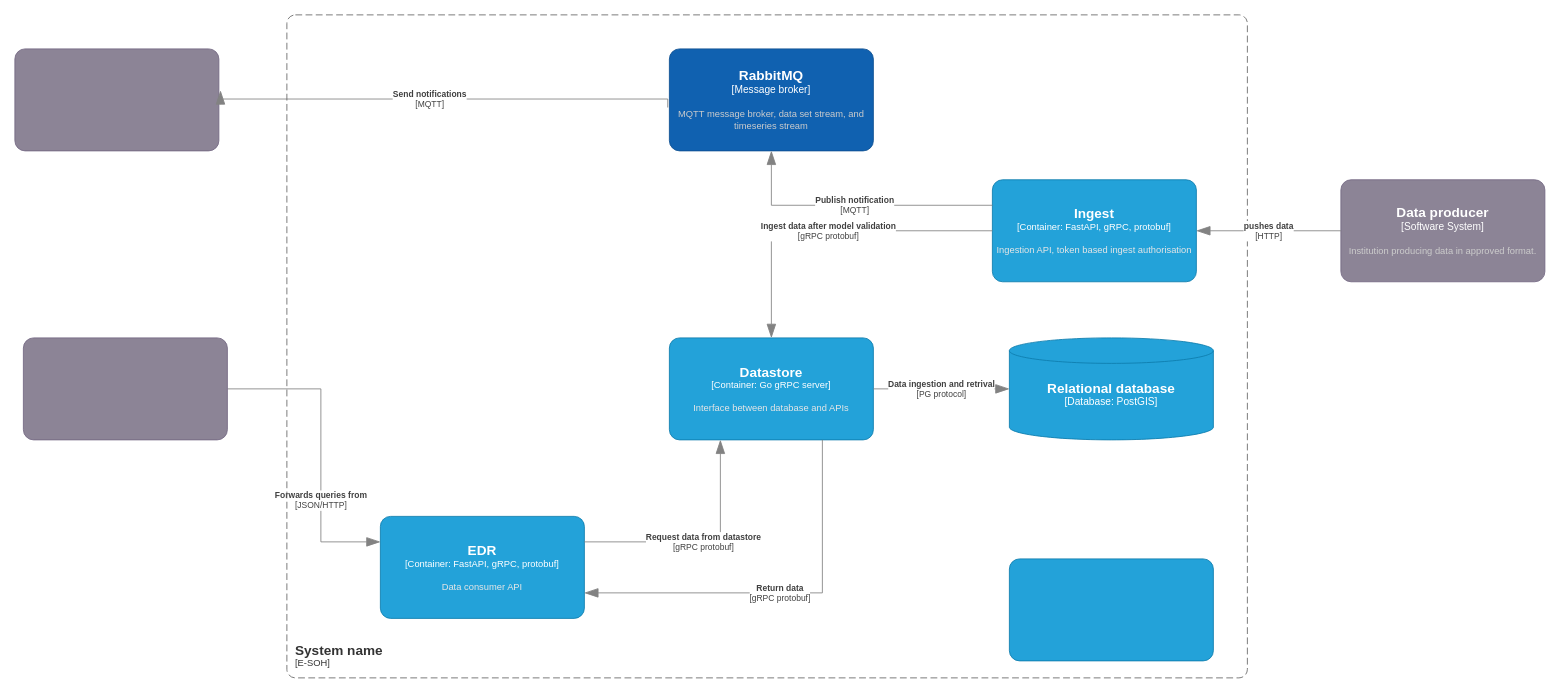
Some shapes in this 1560 by 693 pixel diagram are drawn without their labels. The box of each missing label's shape, as (x1, y1, x2, y2) in pixels:
Femdi API Gateway [Software System] Description of external software system.: (23, 337, 227, 440)
Monitoring and reporting [Container: Eg. graphana]: (1009, 558, 1213, 661)
WIS 2.0 [Software System] Global metadata catalogue: (14, 48, 219, 151)
